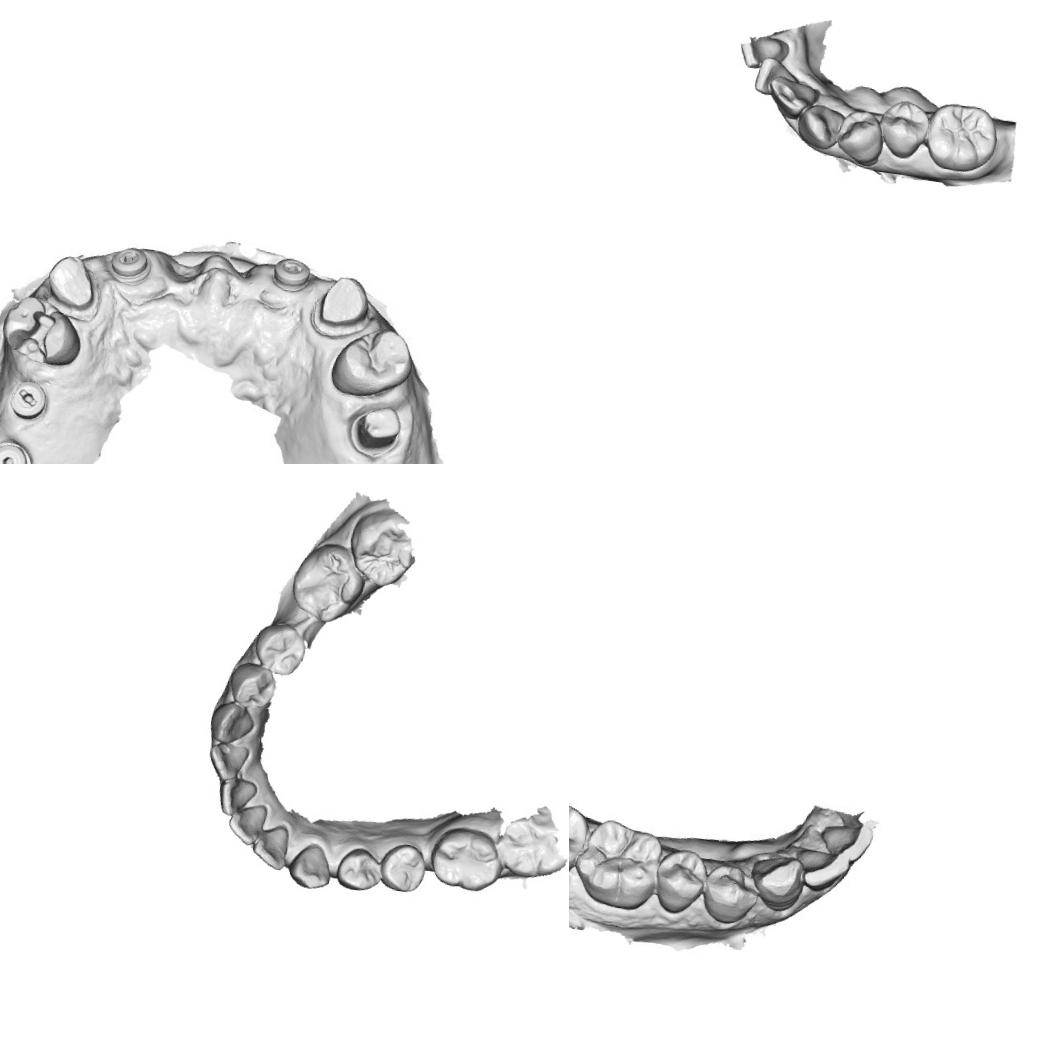abutment: (345, 399, 404, 462)
canine: (745, 850, 809, 916), (793, 100, 847, 155), (284, 838, 336, 894), (205, 699, 258, 747)
crown: (312, 272, 375, 339), (40, 251, 102, 317)
implant: (0, 437, 34, 464)
implant_minus: (6, 374, 53, 426), (265, 253, 318, 297), (106, 243, 155, 288)
incisor: (816, 814, 880, 866), (764, 74, 822, 124), (800, 845, 854, 896), (248, 819, 294, 872), (752, 54, 804, 99), (737, 32, 792, 74), (204, 738, 252, 784), (224, 800, 270, 848), (215, 774, 259, 820)
inlay: (3, 302, 63, 368)
molar: (569, 812, 666, 915), (286, 538, 372, 628), (342, 504, 420, 594), (922, 98, 1006, 178), (424, 821, 506, 896), (496, 814, 568, 882), (569, 788, 593, 889)
premolar: (325, 320, 418, 404), (648, 844, 712, 918), (696, 857, 760, 931), (873, 95, 932, 162), (250, 618, 310, 678), (832, 106, 886, 166), (376, 839, 430, 896), (222, 658, 278, 711), (333, 844, 386, 896)
